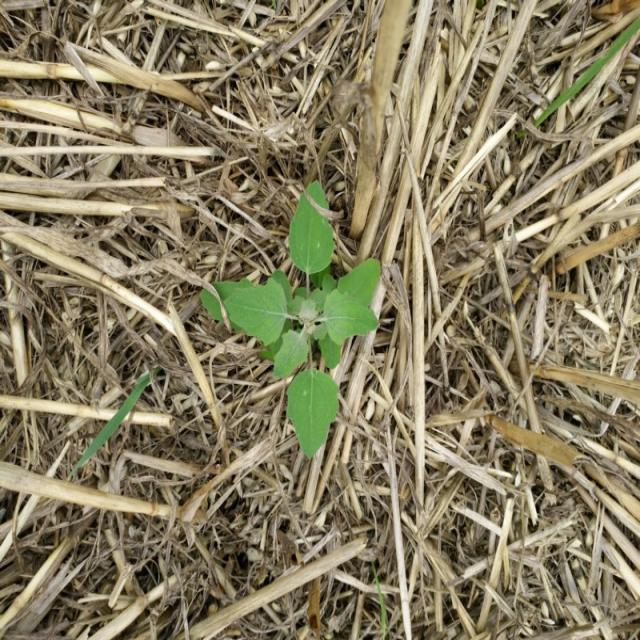ca: (224, 194, 377, 458)
